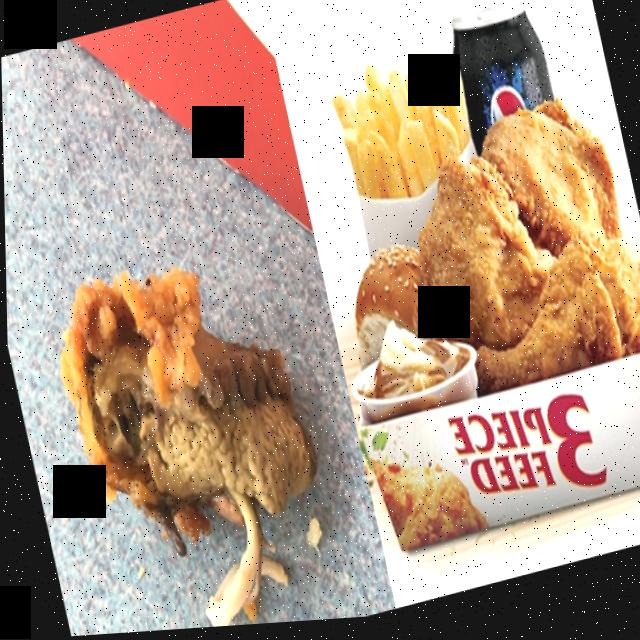Frango: (395, 140, 549, 369), (449, 223, 640, 403), (472, 88, 627, 279)
